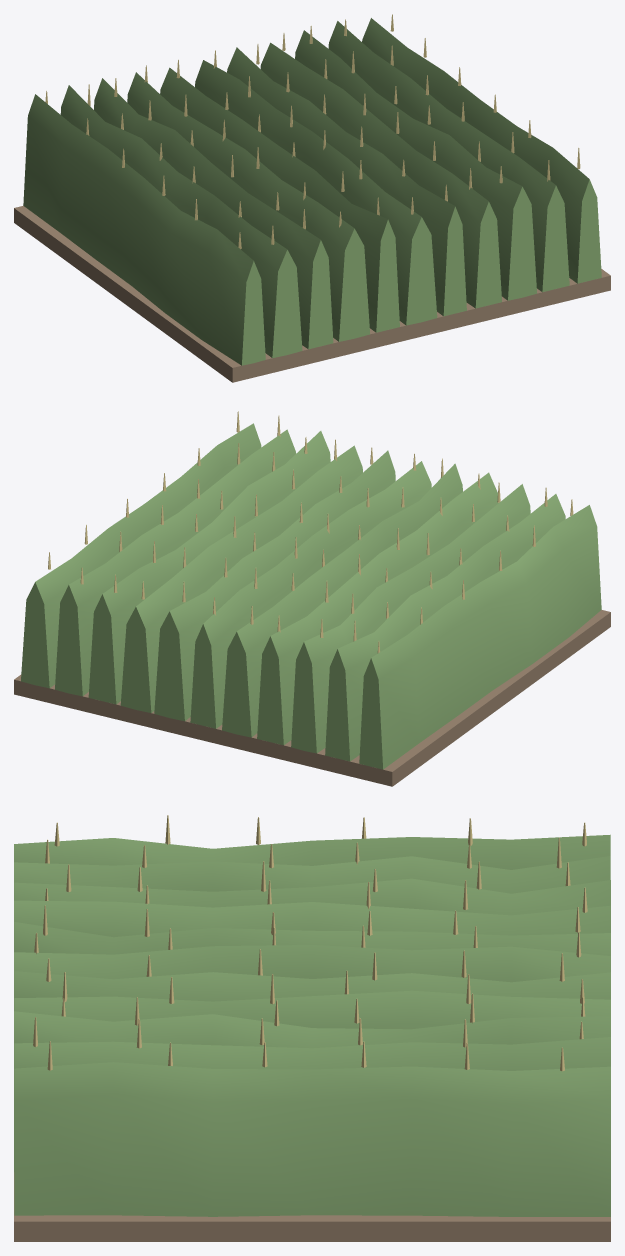
File: arable-fields-and-farm-machinery-field-tile-standing-m-b4495a17__16875.glb
3 views of the same model, one above another, from view 1: azimuth 30°, elevation 25°; view 2: azimuth 150°, elevation 25°; view 3: azimuth 270°, elevation 25° (orthographic). The views are drawn at different scales.
Parts seen in each view (by area): view 1: field-tile-standing-maize; view 2: field-tile-standing-maize; view 3: field-tile-standing-maize.
Part boxes in pixels (box(x1,y1,x2,y2)): field-tile-standing-maize: box(14, 14, 610, 382); field-tile-standing-maize: box(14, 411, 610, 786); field-tile-standing-maize: box(14, 815, 610, 1241).
Size of the model in its own units: 8 by 2.8 by 8.
